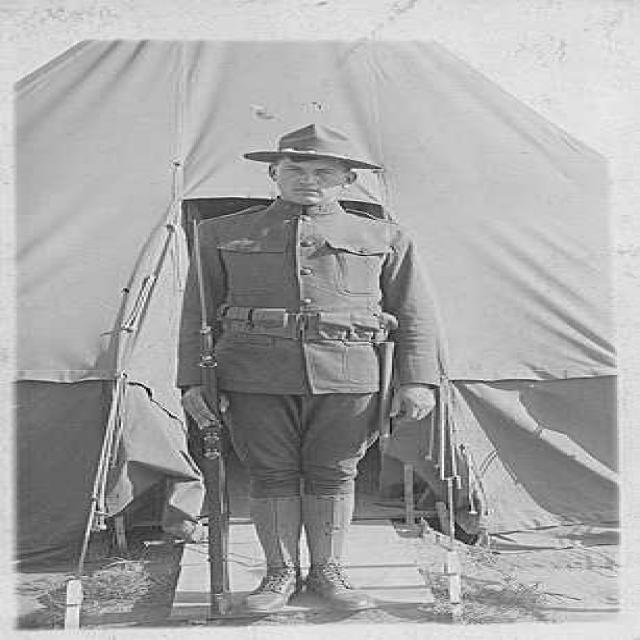weapon: (182, 216, 226, 614)
